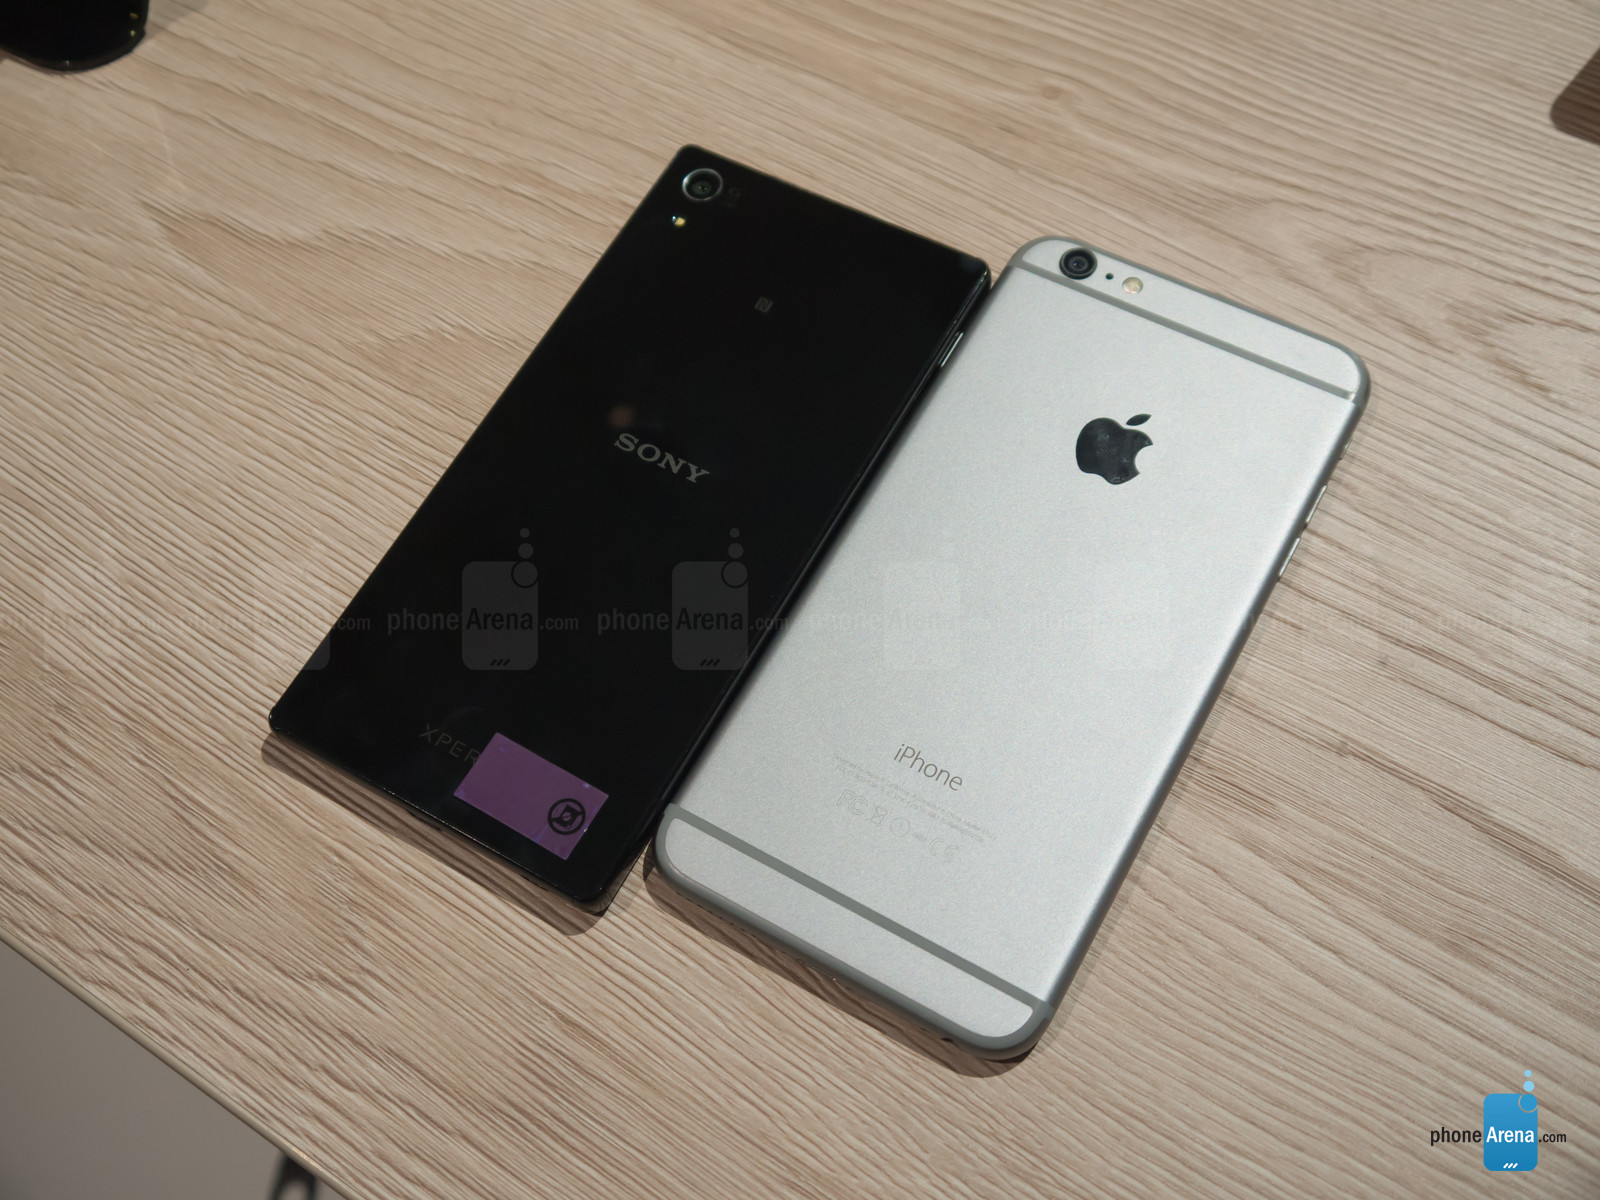smartphone: (653, 234, 1371, 1058), (265, 141, 991, 919)
